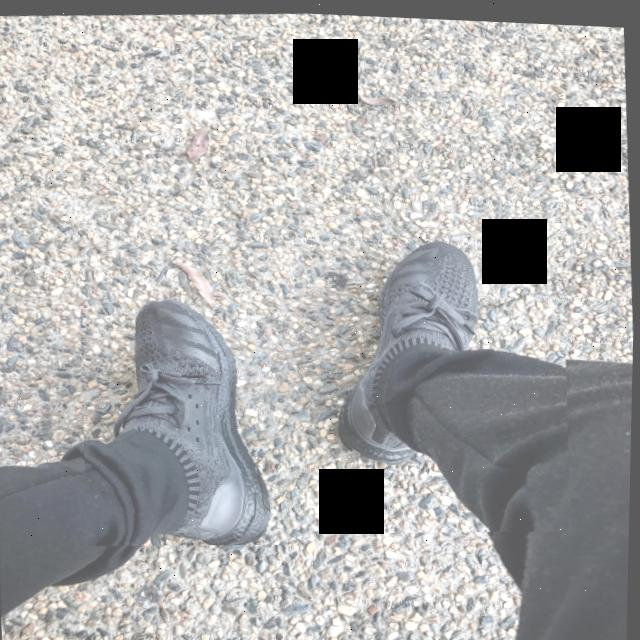shoe: (336, 189, 579, 538), (75, 239, 310, 553)
